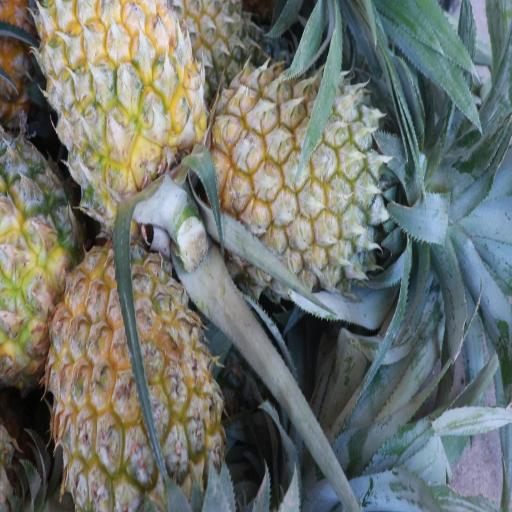------------------------------: (0, 126, 95, 391)
Pineapple - v8 v1: (40, 245, 235, 512), (205, 62, 412, 310), (35, 0, 209, 295)
